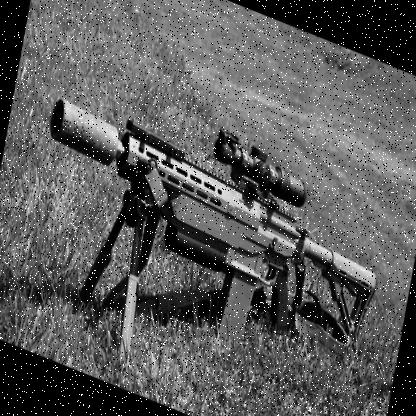rifle: (25, 57, 392, 379)
